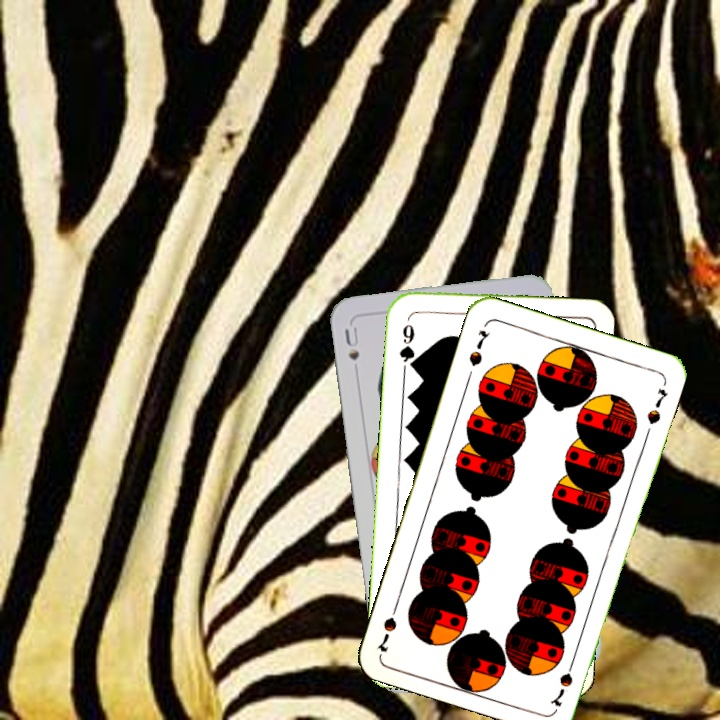G9: (396, 320, 417, 373)
S7: (546, 653, 578, 709), (464, 325, 493, 369)
SU: (340, 323, 362, 363)
